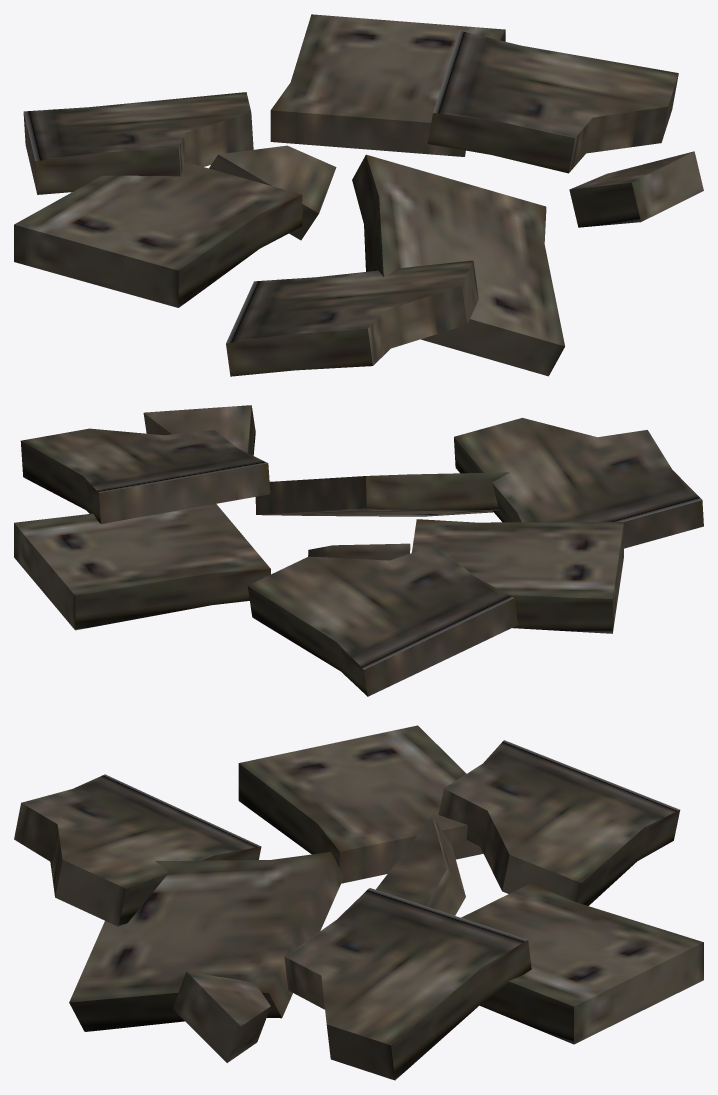
File: DN_lv2_hcwdroad04.FBX
3 views of the same model, one above another, from view 1: azimuth 30°, elevation 25°; view 2: azimuth 150°, elevation 25°; view 3: azimuth 270°, elevation 25° (orthographic). The views are drawn at different scales.
Visible parts, largest first — view 1: DN_lv2_hcwdroad04; view 2: DN_lv2_hcwdroad04; view 3: DN_lv2_hcwdroad04.
Boxes of the visible parts, x1,y1,x2,y2 form: DN_lv2_hcwdroad04: [14, 14, 703, 376]; DN_lv2_hcwdroad04: [14, 405, 703, 696]; DN_lv2_hcwdroad04: [14, 725, 703, 1080].
Size of the model in its own units: 178 by 40.35 by 161.
